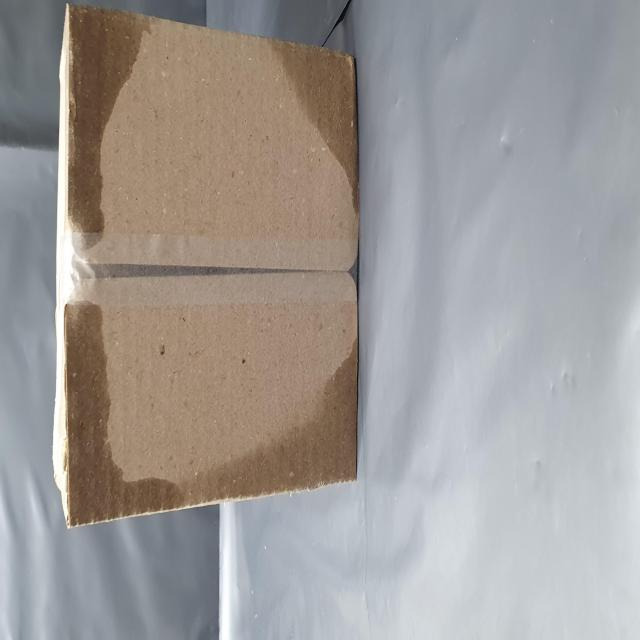wet: (68, 104, 194, 640), (229, 119, 360, 263), (250, 471, 335, 639)
